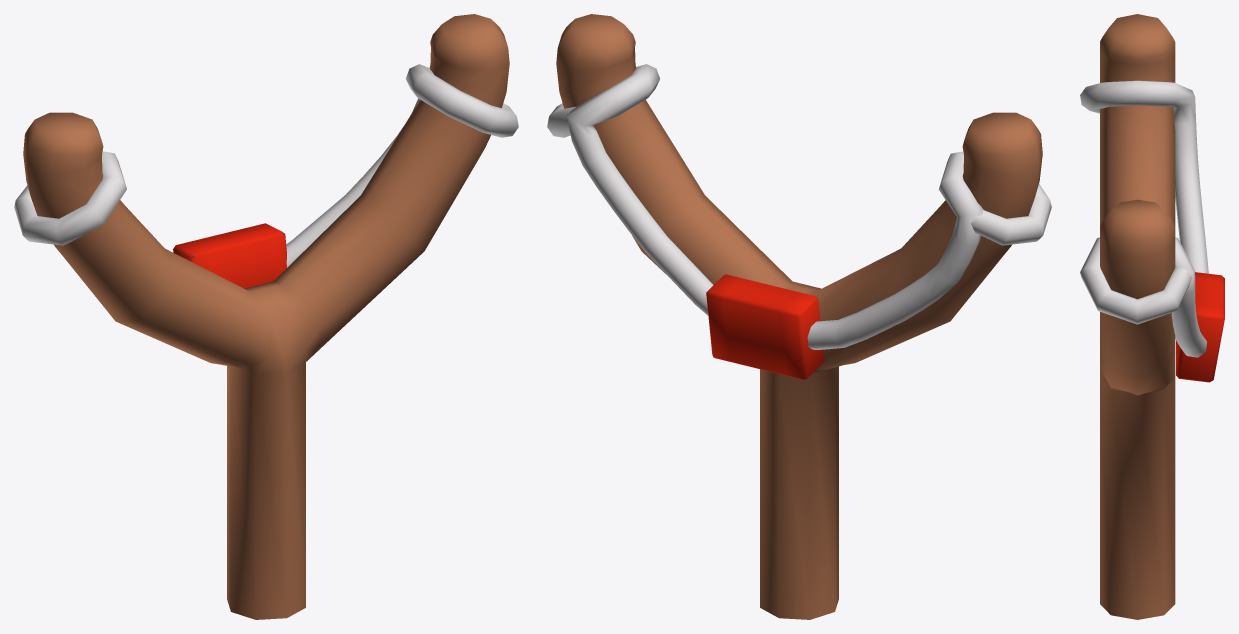
Rendered from sapan 1.fbx.
The picture shows the model from 3 angles, left to right: view 1: azimuth 30°, elevation 25°; view 2: azimuth 150°, elevation 25°; view 3: azimuth 270°, elevation 25°; orthographic projection. The views are drawn at different scales.
Parts seen in each view (by area): view 1: sapan, yay; view 2: sapan, yay; view 3: sapan, yay.
Boxes of the visible parts, x1,y1,x2,y2 form: sapan: [23, 14, 509, 619]; yay: [14, 64, 518, 288]; sapan: [556, 14, 1042, 619]; yay: [547, 64, 1051, 379]; sapan: [1100, 14, 1175, 619]; yay: [1080, 80, 1224, 382].
Bounding box in the file's own units: 247 × 257 × 69.14.
